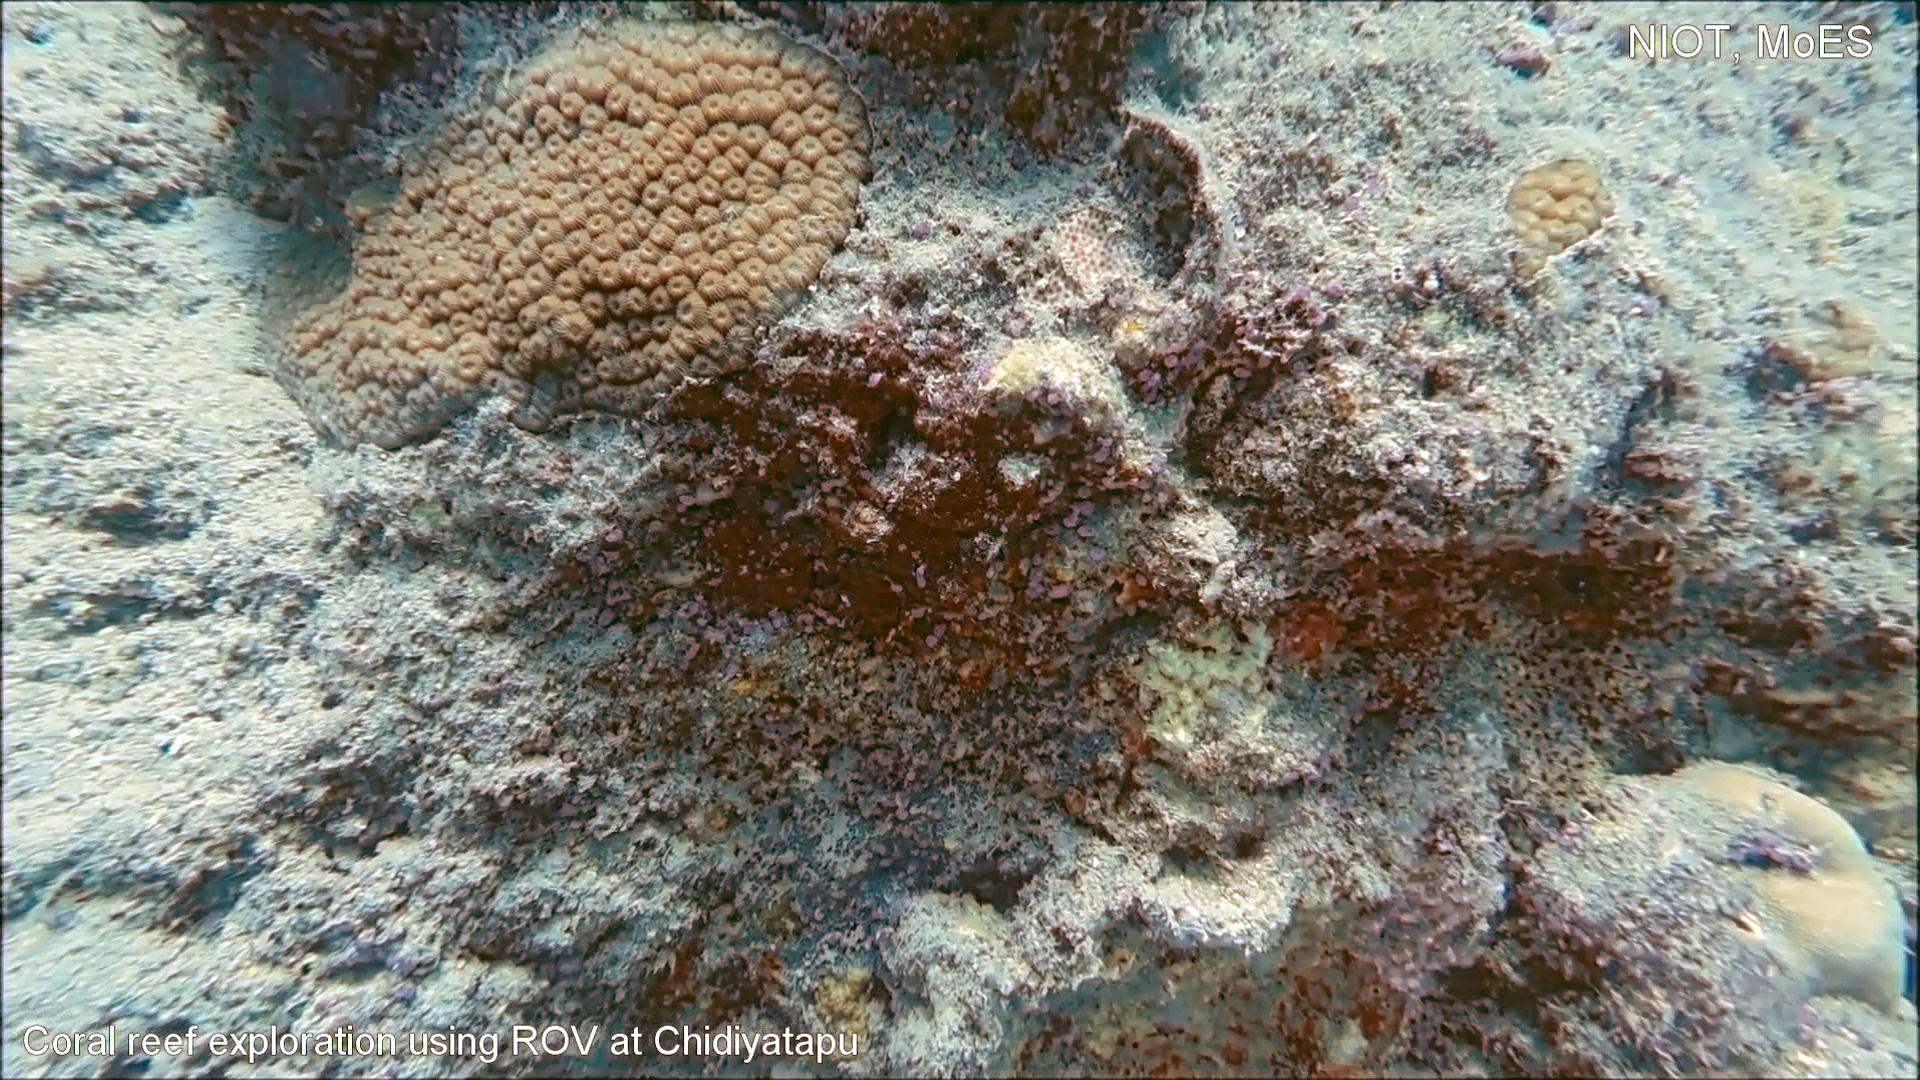Montastraea: (266, 1, 890, 434), (1495, 149, 1625, 297)
